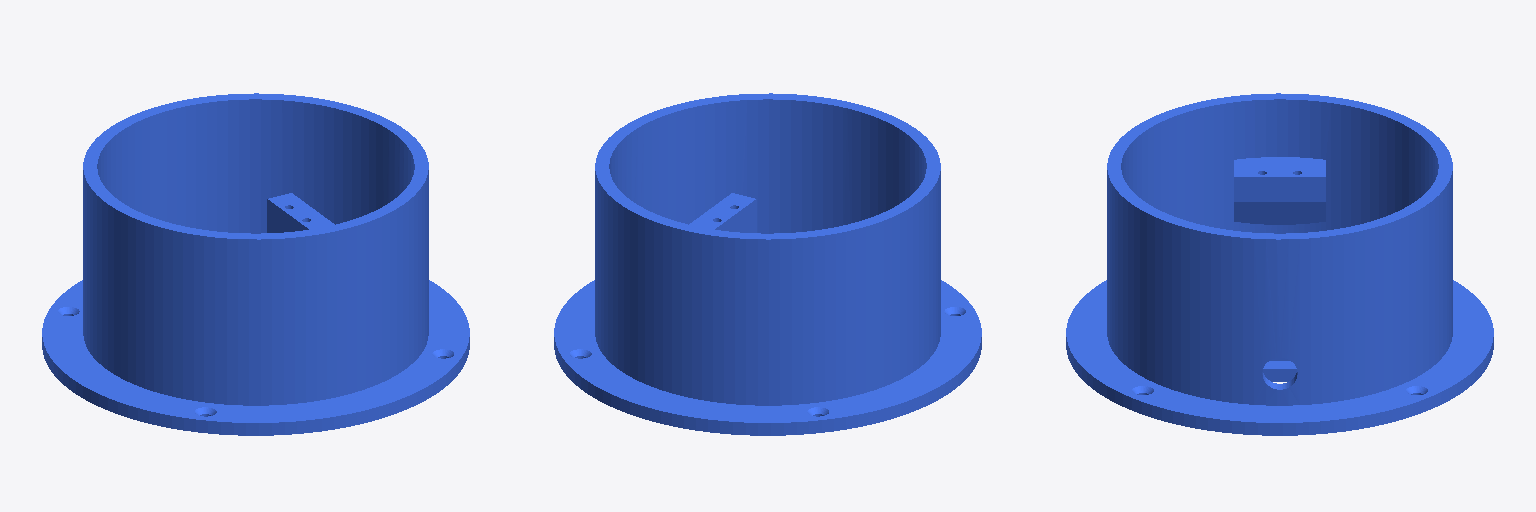
The picture shows the model from 3 angles: view 1: azimuth 30°, elevation 25°; view 2: azimuth 150°, elevation 25°; view 3: azimuth 270°, elevation 25°; orthographic projection.
Parts seen in each view (by area): view 1: fabconvert.com_base; view 2: fabconvert.com_base; view 3: fabconvert.com_base.
Part boxes in pixels (x1,y1,x2,y2): fabconvert.com_base: (42, 93, 469, 435); fabconvert.com_base: (554, 93, 981, 435); fabconvert.com_base: (1066, 93, 1493, 435).
Bounding box in the file's own units: 1.53 × 0.706 × 1.53.